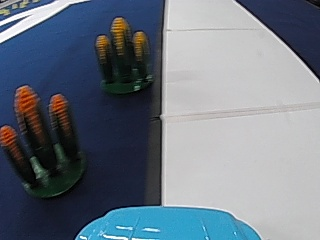corn: (1, 87, 84, 199), (95, 19, 153, 95)
